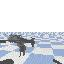drone: (0, 33, 35, 57)
